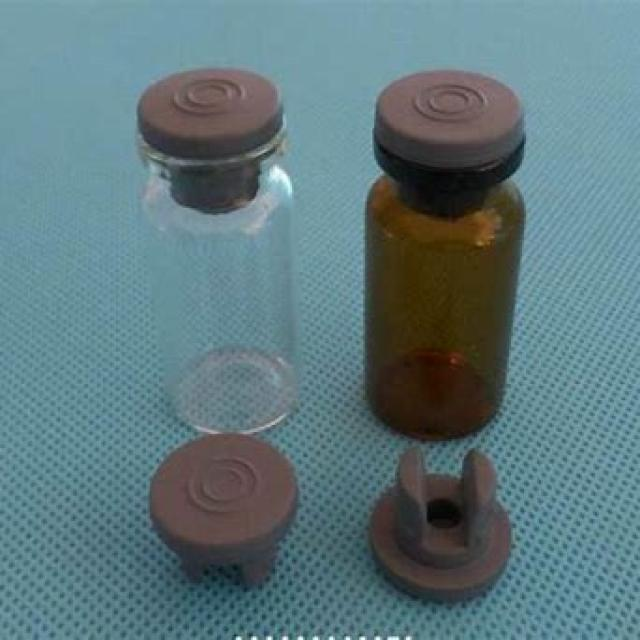vial: (152, 76, 282, 146), (391, 80, 518, 148)
